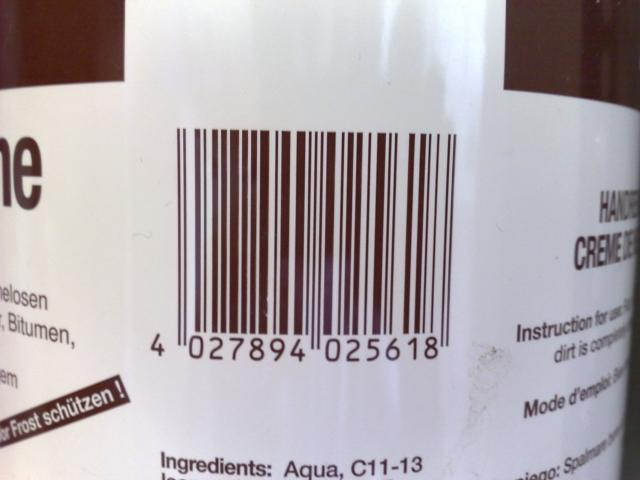Barcode: (141, 128, 464, 372)
